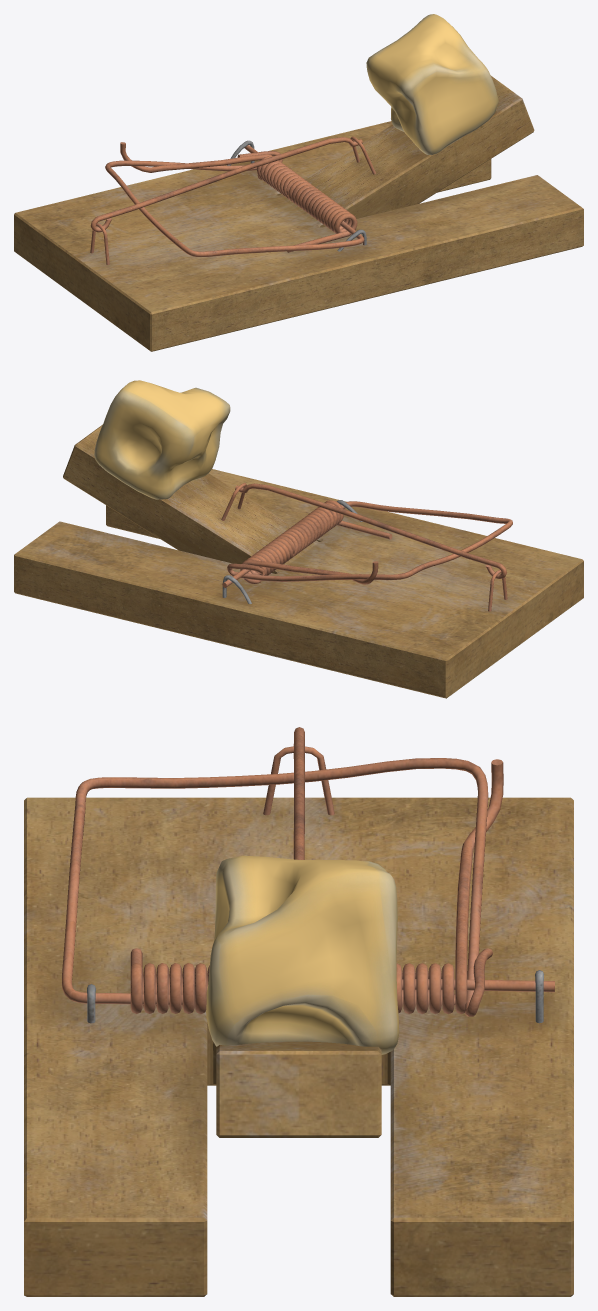
File: bait_intokerday3.glb
The picture shows the model from 3 angles, top to bottom: view 1: azimuth 30°, elevation 25°; view 2: azimuth 150°, elevation 25°; view 3: azimuth 270°, elevation 25°; orthographic projection. The views are drawn at different scales.
Visible parts, largest first — view 1: mouse_trap_wood, cheese, mouse_trap_wires; view 2: mouse_trap_wood, cheese, mouse_trap_wires; view 3: mouse_trap_wood, cheese, mouse_trap_wires.
Part boxes in pixels (x1,y1,x2,y2): mouse_trap_wood: [14, 76, 583, 351]; cheese: [366, 14, 498, 155]; mouse_trap_wires: [90, 136, 375, 264]; mouse_trap_wood: [14, 424, 583, 698]; cheese: [94, 380, 230, 499]; mouse_trap_wires: [221, 483, 512, 611]; mouse_trap_wood: [24, 797, 573, 1296]; cheese: [206, 855, 399, 1054]; mouse_trap_wires: [61, 727, 554, 1023].
Bounding box in the file's own units: 2 × 0.8105 × 1.1.
3 materials, 3 textured.
